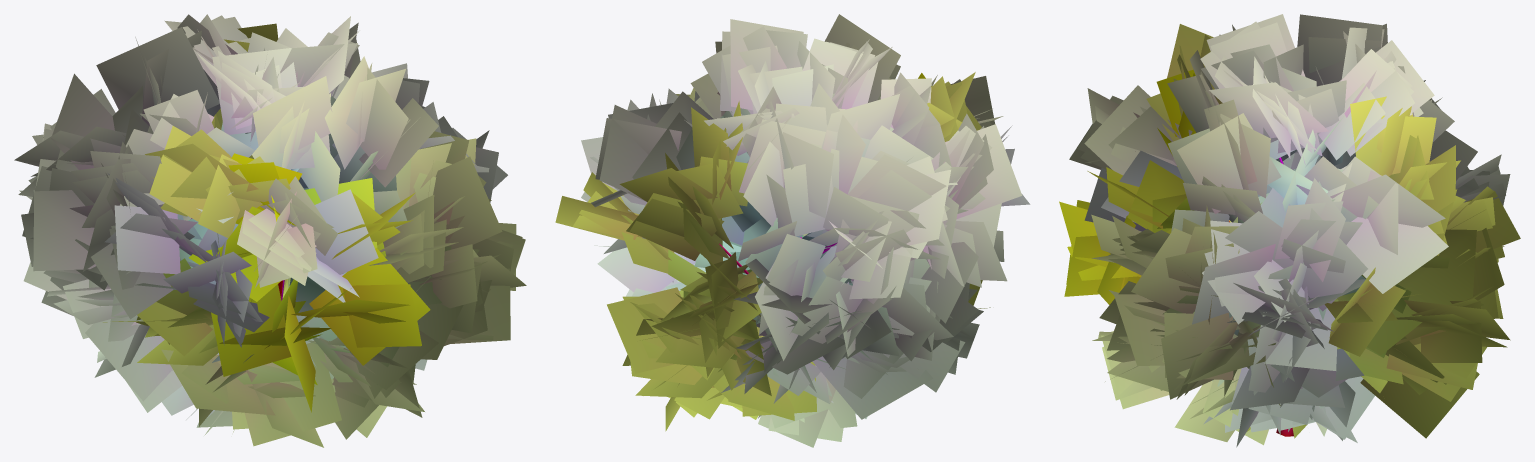
The model's file is shrub_lilac.glb.
3 renders of one model, left to right at view 1: azimuth 30°, elevation 25°; view 2: azimuth 150°, elevation 25°; view 3: azimuth 270°, elevation 25°, orthographic. The views are drawn at different scales.
Visible parts, largest first — view 1: shrub_lilac; view 2: shrub_lilac; view 3: shrub_lilac.
Boxes of the visible parts, <box> form: shrub_lilac: <box>14,14,526,447</box>; shrub_lilac: <box>555,14,1030,447</box>; shrub_lilac: <box>1059,14,1520,447</box>.
Size of the model in its own units: 3.39 by 2.88 by 3.1.
